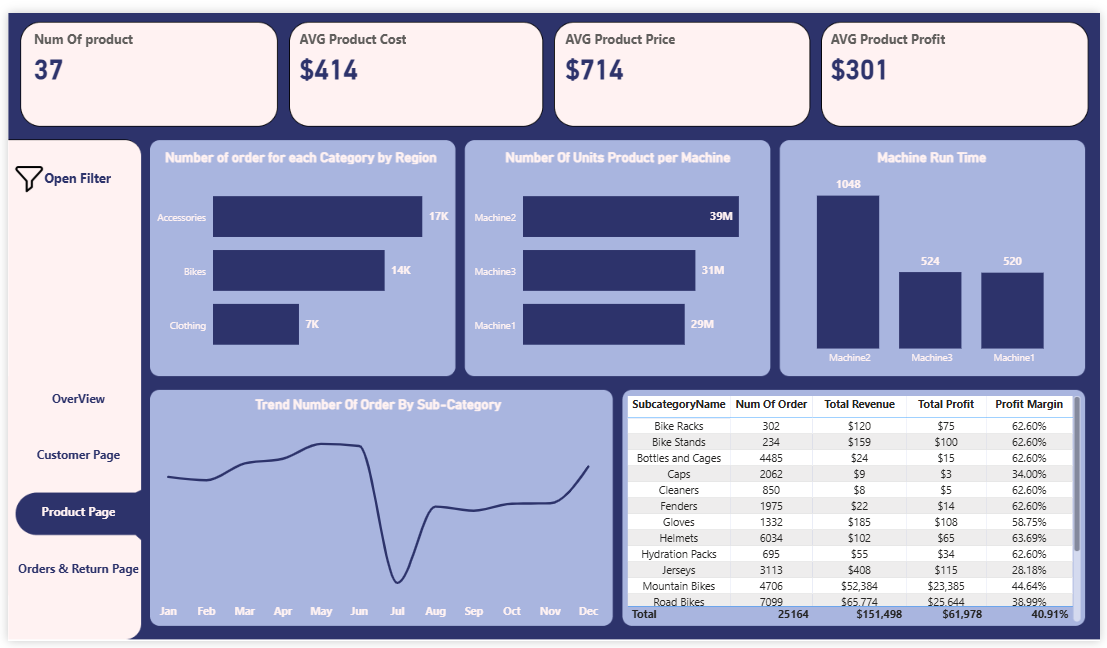

Layout of this report page (visuals, bound fields, positions):
{"tool":"powerbi","page":{"name":"Product Page","canvas":[1366,786],"ordinal":2},"visuals":[{"type":"barChart","title":"Number of order for each Category by Region","fields":{"Category":["Product Categories.CategoryName","Territories.Region"],"Y":["_DAX_Measure.Count Num order for each sub product"]},"box":[176.7,165.6,380,284.4],"z":0},{"type":"actionButton","box":[0,183.3,167.8,45.6],"z":0,"group":"g1"},{"type":"image","box":[0,181.1,52.2,51.1],"z":1000,"group":"g1"},{"type":"lineChart","title":"Trend Number Of Order By Sub-Category","fields":{"Y":["_DAX_Measure.Count Num order for each sub product"],"Category":["Date_Dim.Month Name"]},"box":[176.7,473.3,573.3,292.2],"z":1000},{"type":"tableEx","fields":{"Values":["Product Subcategories.SubcategoryName","_DAX_Measure.Num Of Order","_DAX_Measure.Total Revenue","_DAX_Measure.Total Profit","_DAX_Measure.margen"]},"box":[768.9,473.3,576.7,292.2],"z":2000},{"type":"cardVisual","fields":{"Data":["_DAX_Measure.Num Of product","_DAX_Measure.AVG Product Cost","_DAX_Measure.AVG Product Price","_DAX_Measure.AVG Product Profit"]},"box":[17.8,10,1335.6,133.3],"z":3000},{"type":"barChart","title":"Number Of Units Product per Machine","fields":{"Category":["Machines_List.Machine Name"],"Y":["Sum(Production_Lots. Act Quantity)"]},"box":[573.3,165.6,377.8,284.4],"z":4000},{"type":"columnChart","title":"Machine Run Time","fields":{"Category":["Machines_List.Machine Name"],"Y":["Sum(Production_Lots.Duration Working Machines By Hours)"]},"box":[965.6,165.6,380,284.4],"z":6000},{"type":"pageNavigator","box":[0,450,168,274],"z":7000},{"type":"group","id":"g1","title":"Group 1","box":[0,181.1,167.8,51.1],"z":8000}]}

Visuals, with their boxes in screenshot pixels (x1, y1, x2, y2), scaled from the page's 1366x786 canvas onto the 1107x648 screenshot:
"Number of order for each Category by Region" barChart: rect(143, 137, 451, 371)
actionButton: rect(0, 151, 136, 189)
image: rect(0, 149, 42, 191)
"Trend Number Of Order By Sub-Category" lineChart: rect(143, 390, 608, 631)
tableEx - Product Subcategories.SubcategoryName x _DAX_Measure.Num Of Order: rect(623, 390, 1090, 631)
cardVisual - _DAX_Measure.Num Of product x _DAX_Measure.AVG Product Cost: rect(14, 8, 1097, 118)
"Number Of Units Product per Machine" barChart: rect(465, 137, 771, 371)
"Machine Run Time" columnChart: rect(783, 137, 1090, 371)
pageNavigator: rect(0, 371, 136, 597)
"Group 1" group: rect(0, 149, 136, 191)
